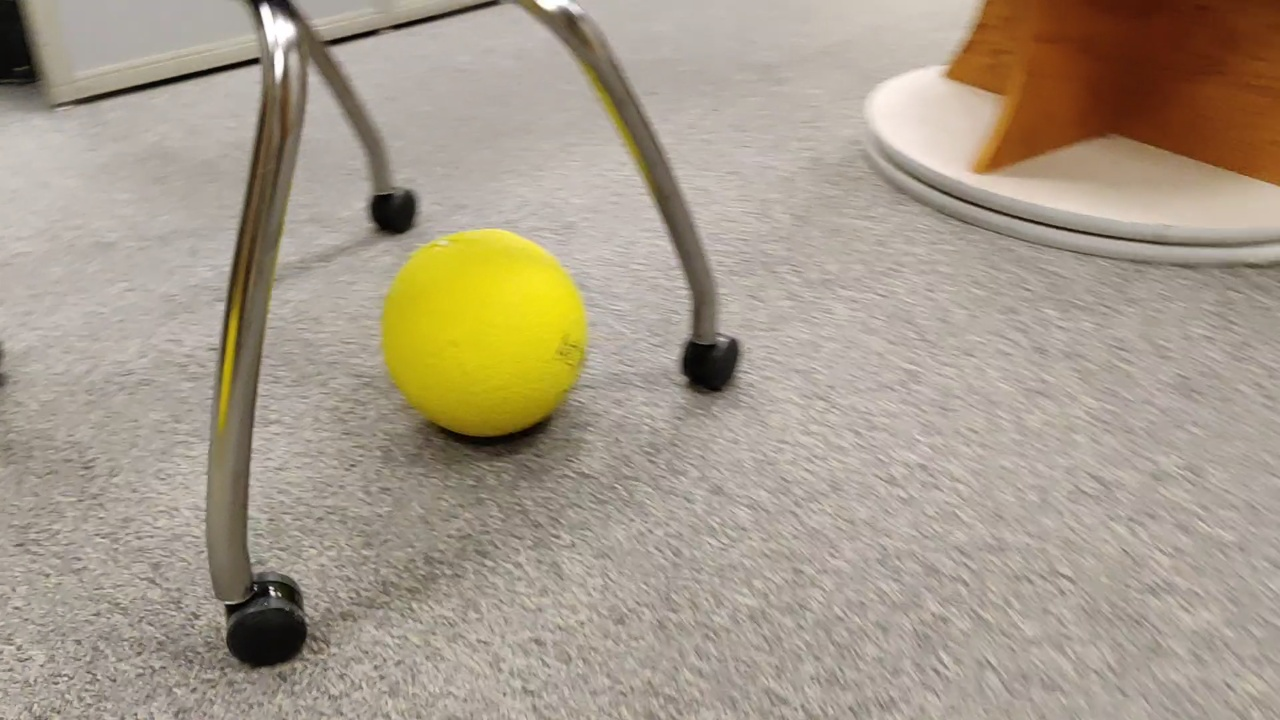Ball: (376, 228, 592, 448)
